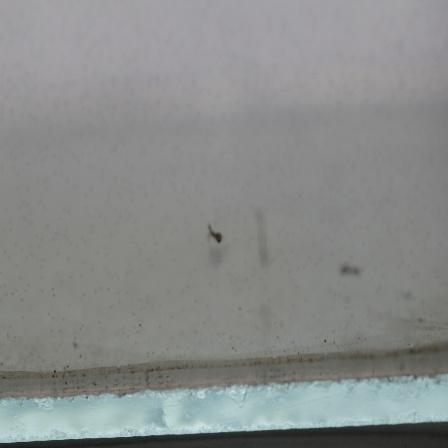Jentik-Nyamuk: (205, 218, 227, 249)
